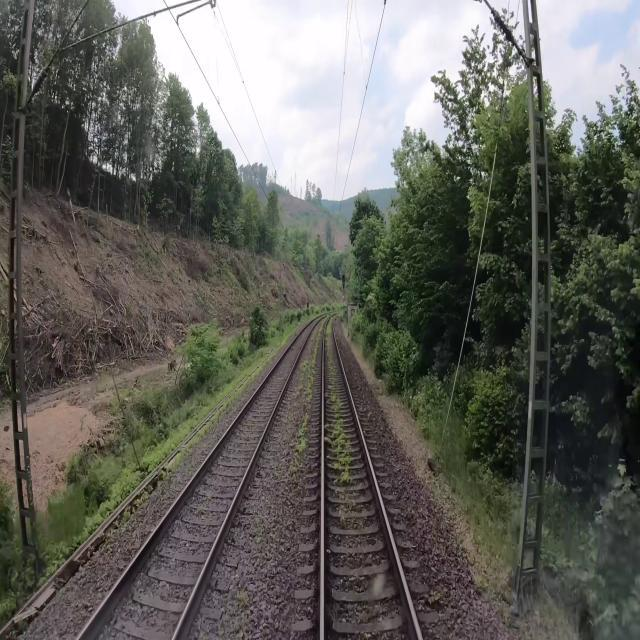Plant: (284, 319, 324, 479), (326, 318, 354, 482), (428, 586, 442, 608), (235, 587, 248, 606)
